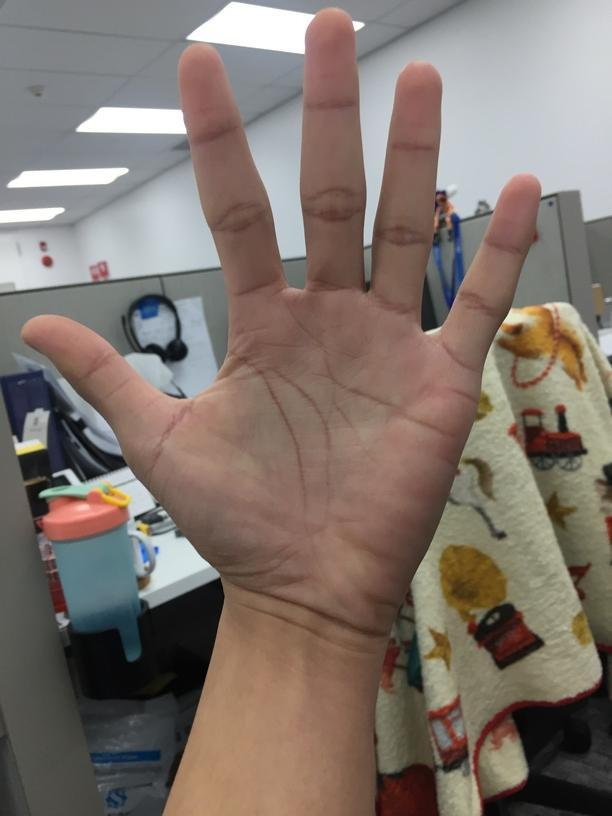hand: (24, 9, 542, 638)
